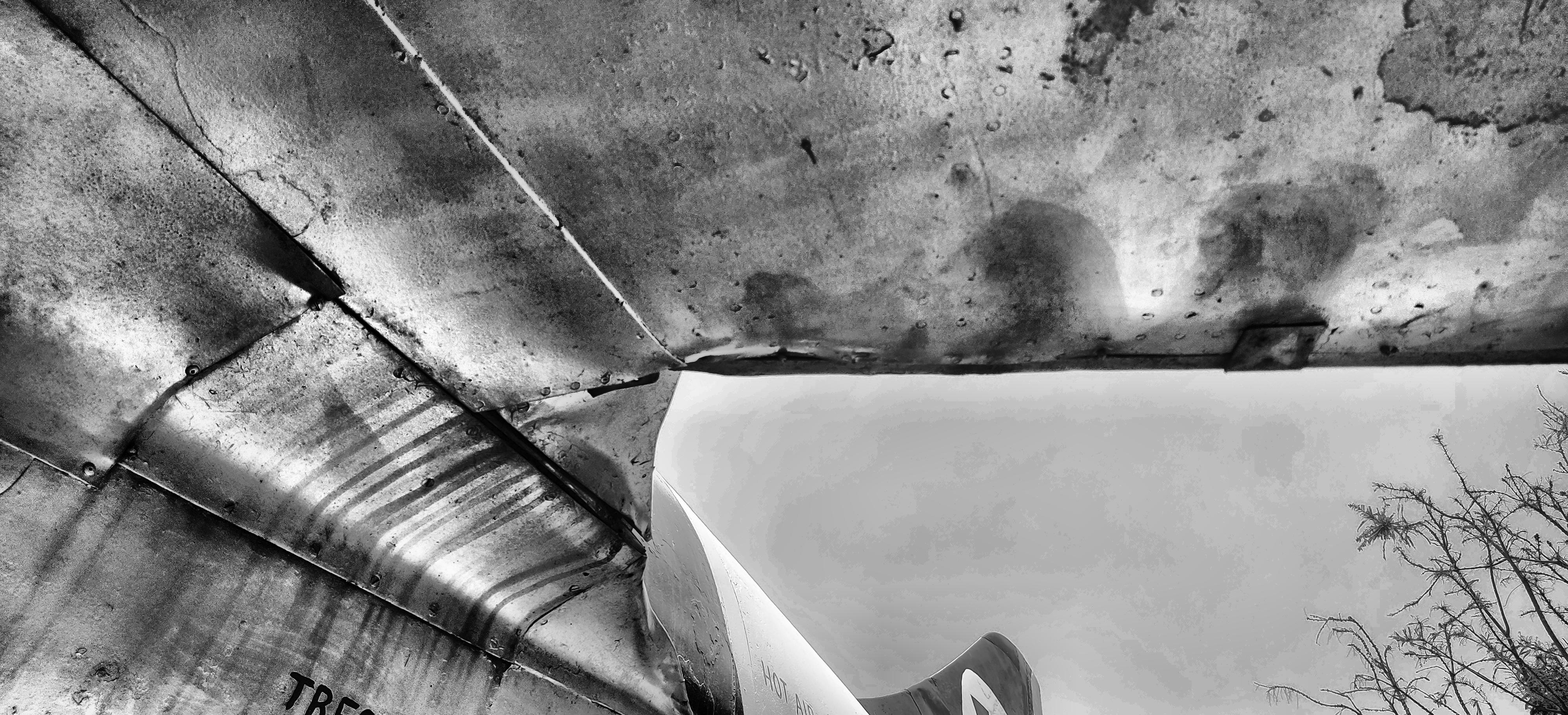crack: (291, 231, 304, 239), (931, 677, 938, 687)
dent: (554, 439, 652, 543), (340, 383, 409, 478), (257, 249, 332, 302), (683, 343, 825, 365), (656, 660, 693, 715), (1108, 254, 1136, 319), (638, 581, 665, 645), (837, 343, 880, 368), (517, 413, 556, 431), (918, 688, 939, 715), (97, 449, 119, 471)
missing-head: (582, 572, 590, 577), (628, 573, 634, 578)
paint-peel-off: (1379, 0, 1568, 133), (1060, 0, 1155, 75), (864, 27, 895, 57), (499, 662, 514, 684)
scratch: (119, 0, 222, 154), (404, 654, 411, 667)
